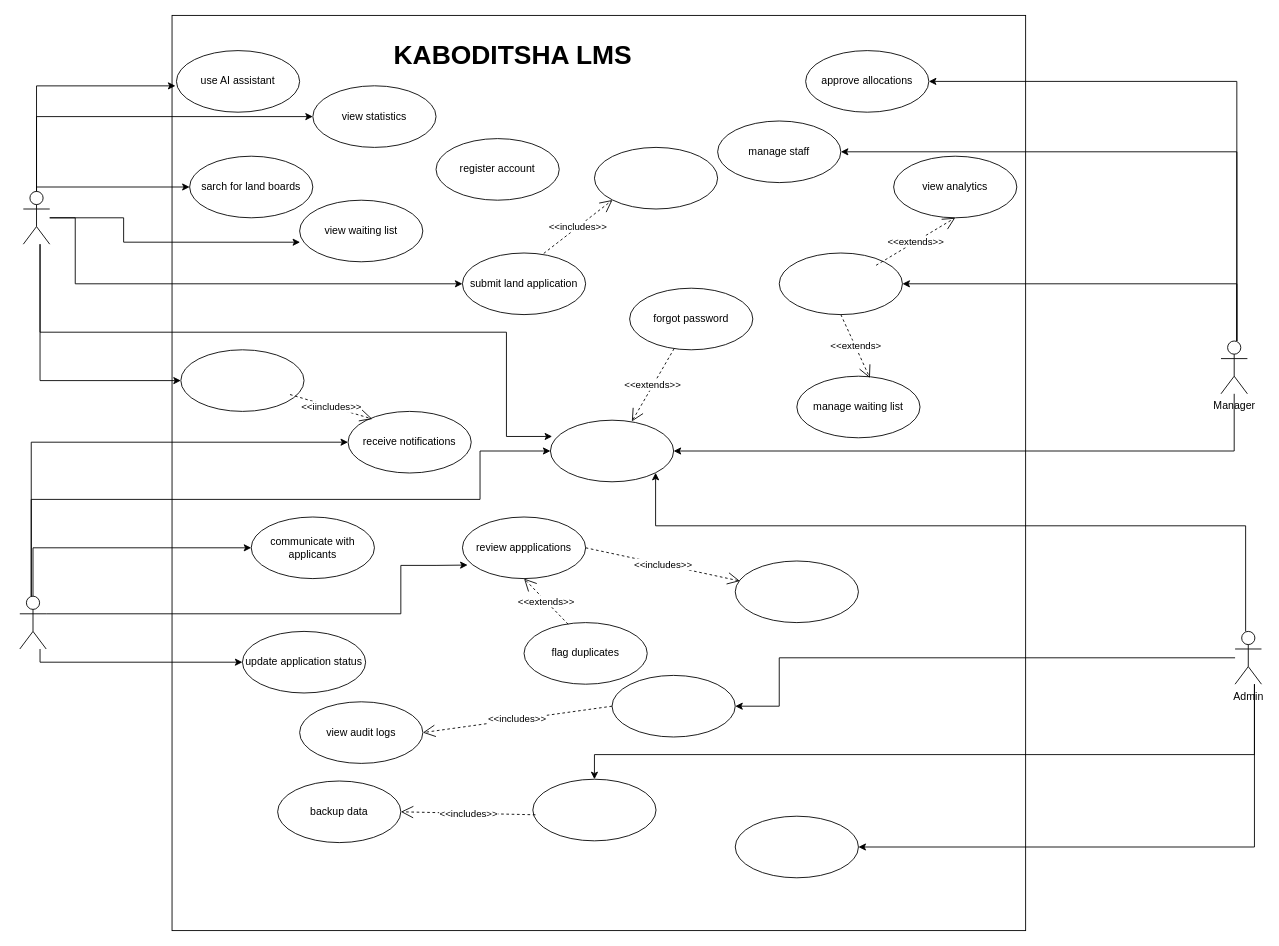
This 1279x946 diagram has some shape labels left out. The shapes that lost their labels are listed below. From the top down, each one's centre as x and y in pixels, then its label:
At point (656, 178): "upload documents".
At point (36, 217): "Applicant".
At point (840, 283): "generate reports".
At point (242, 380): "track application status".
At point (612, 450): "login".
At point (796, 591): "verify documents".
At point (32, 622): "Staff".
At point (673, 706): "manage users".
At point (594, 809): "monitor system health".
At point (796, 846): "manage land boards".
